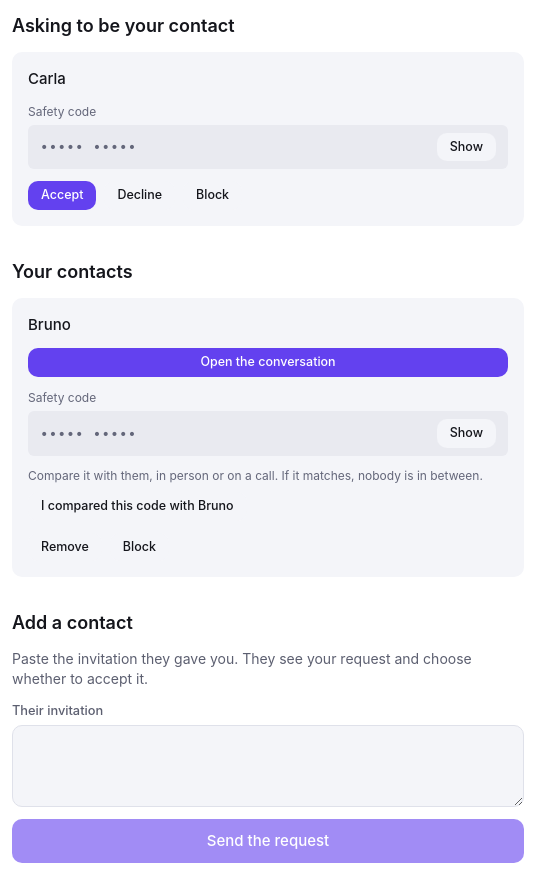
Scenario: an invitation that does not read says why
The width and height of the screenshot is (541, 871).
Type "convia1typo" into the text box labelled "Their invitation" at (268, 766), box [12, 724, 524, 806]
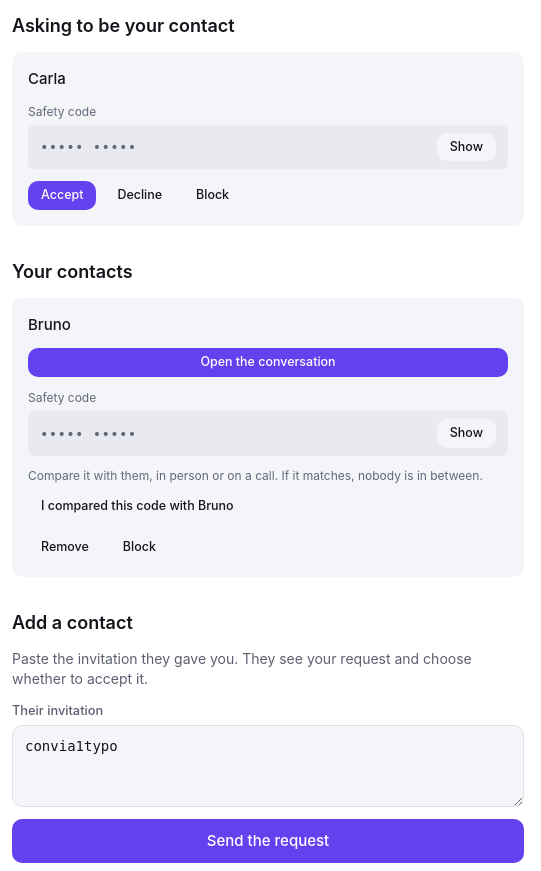
Click the button "Send the request" at (268, 841), box [12, 818, 524, 863]
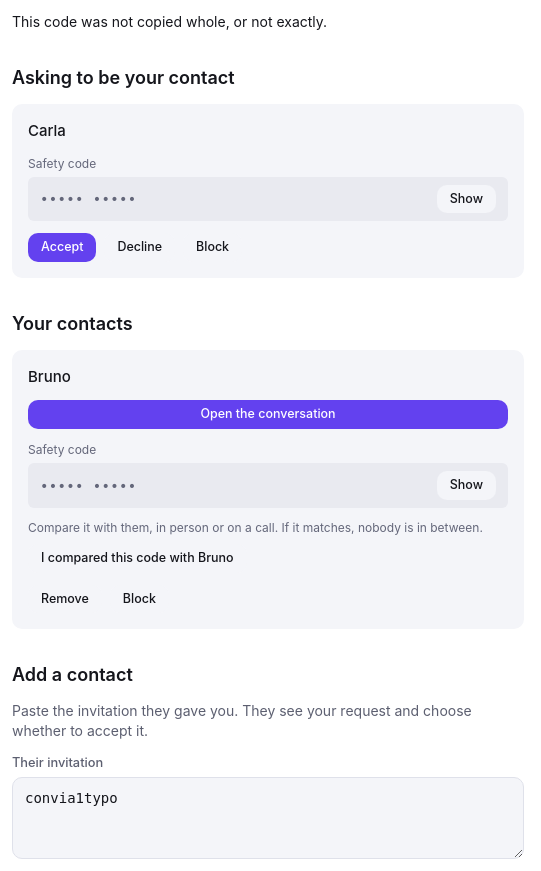
Check: the text "This code was not copied whole, or not exactly." is shown, box [12, 13, 327, 30]
